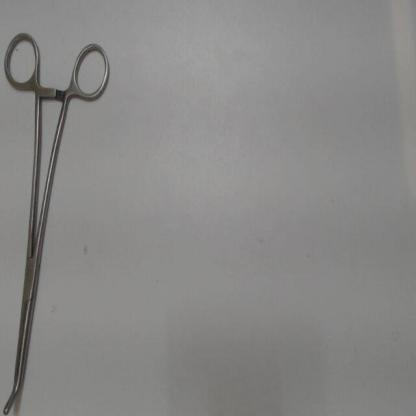Lahey Forceps: (2, 25, 122, 414)
